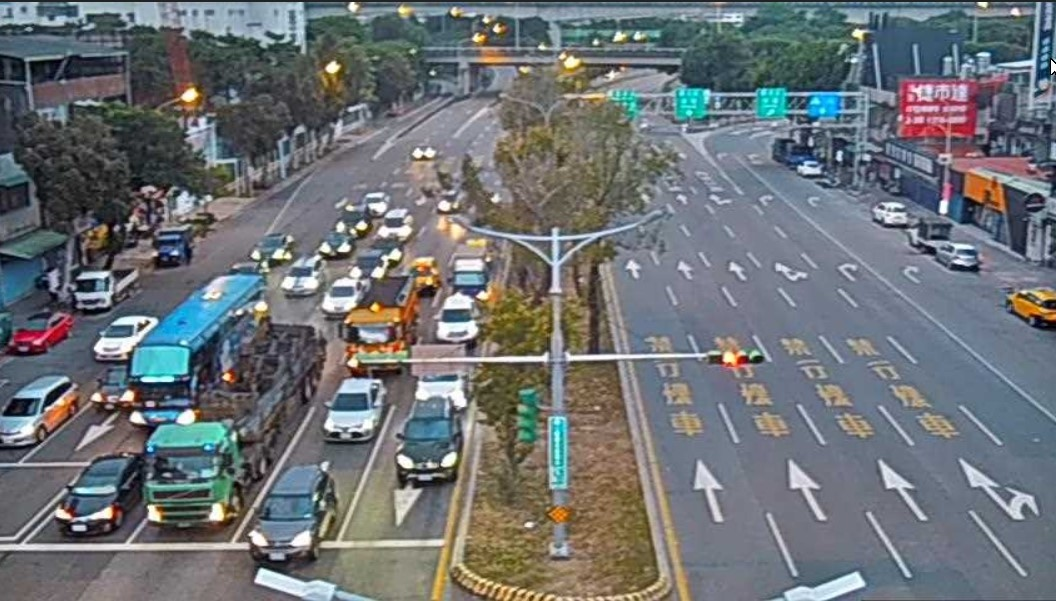Bus: (145, 307, 313, 548), (133, 273, 271, 432)
Business Passenger Car: (998, 275, 1056, 327)
Private Passenger Car: (247, 457, 333, 567), (51, 453, 139, 543), (392, 396, 465, 484), (4, 373, 78, 455), (327, 371, 378, 445), (90, 308, 157, 361), (14, 306, 72, 353), (278, 253, 327, 302), (93, 361, 138, 413), (435, 290, 480, 341), (325, 269, 359, 320), (255, 226, 298, 265), (374, 204, 418, 237), (939, 239, 978, 275), (869, 194, 902, 226), (409, 140, 439, 163), (794, 158, 826, 179)
